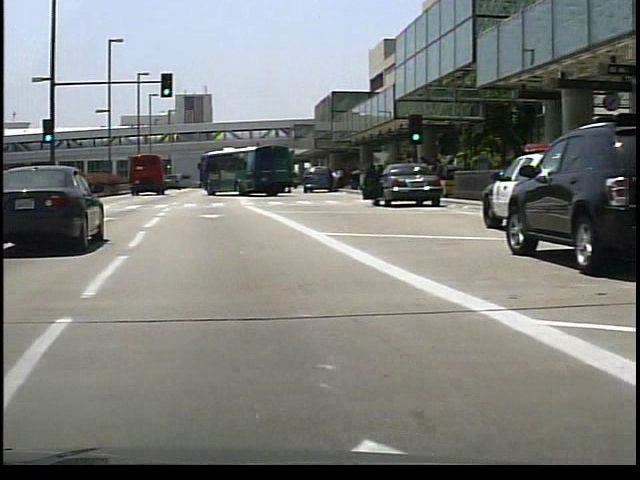person: (325, 167, 336, 192)
